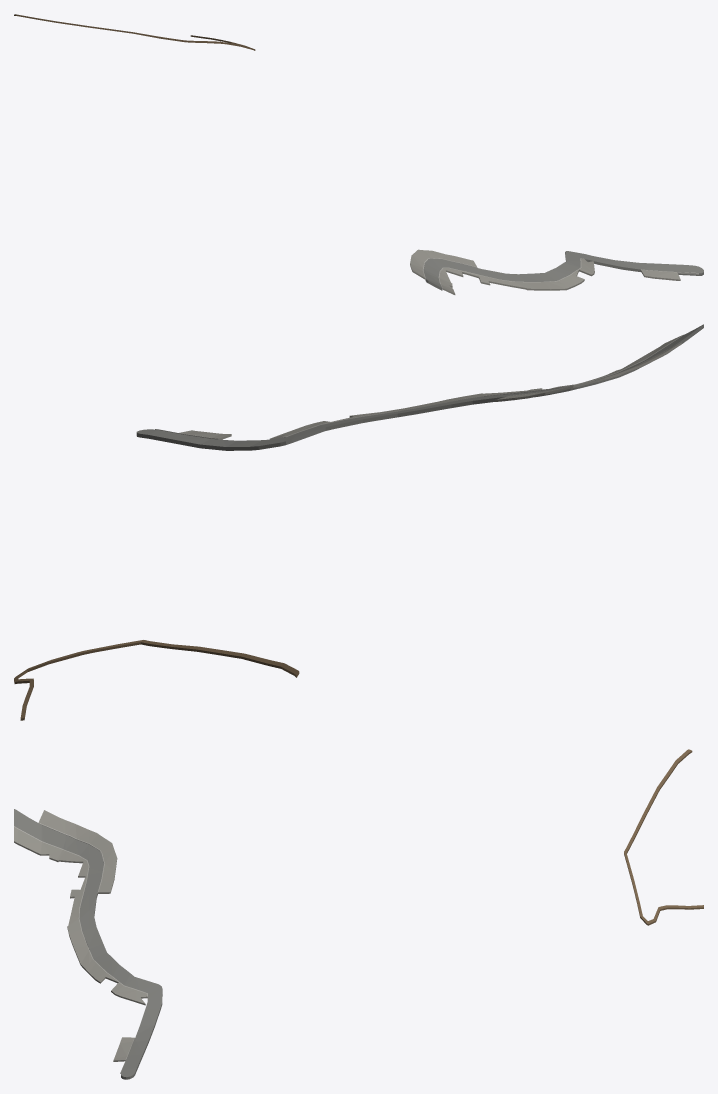
3 views of the same model, one above another, from view 1: azimuth 30°, elevation 25°; view 2: azimuth 150°, elevation 25°; view 3: azimuth 270°, elevation 25° (orthographic). The views are drawn at different scales.
Bounding box in the file's own units: 190 × 65.73 × 292.
